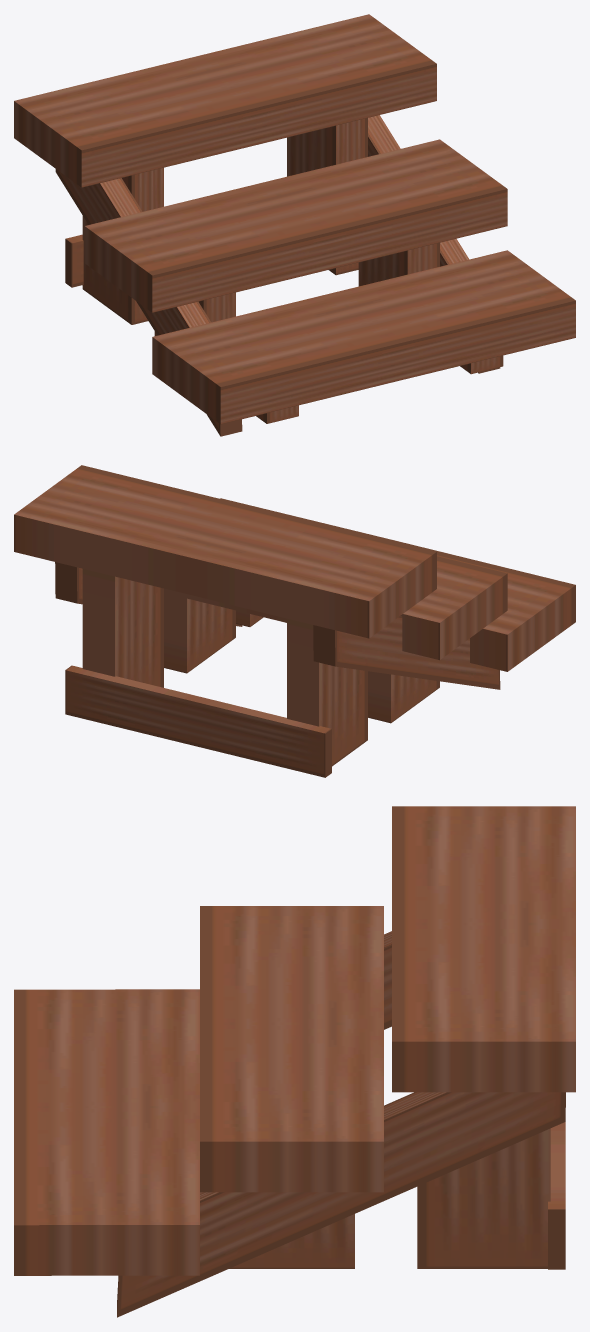
Rendered from HardWoodStepsHand.fbx.
3 views of the same model, one above another, from view 1: azimuth 30°, elevation 25°; view 2: azimuth 150°, elevation 25°; view 3: azimuth 270°, elevation 25° (orthographic). The views are drawn at different scales.
Visible parts, largest first — view 1: AllSideTiles; view 2: AllSideTiles; view 3: AllSideTiles.
Boxes of the visible parts, x1,y1,x2,y2 form: AllSideTiles: (14,14,575,436); AllSideTiles: (14,465,575,777); AllSideTiles: (14,806,575,1317).
Bounding box in the file's own units: 1 × 0.5957 × 1.01.
Materials: 1 (1 with a texture image).
